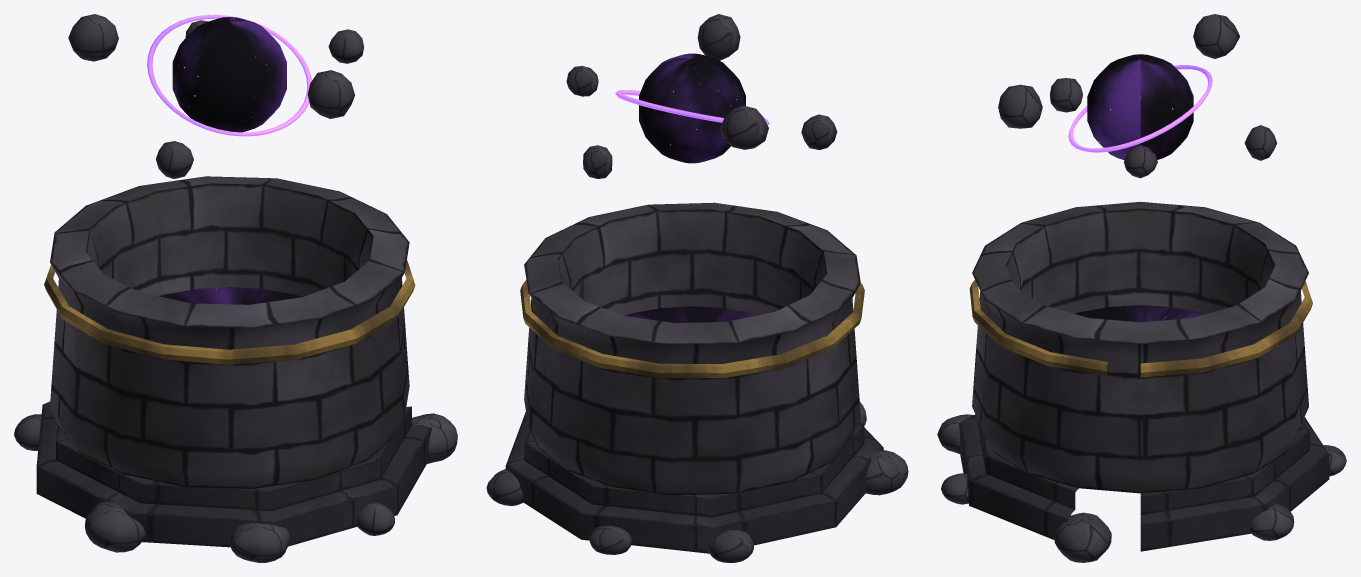
Rendered from gravity.glb.
3 views of the same model, side by side, from view 1: azimuth 30°, elevation 25°; view 2: azimuth 150°, elevation 25°; view 3: azimuth 270°, elevation 25° (orthographic). The views are drawn at different scales.
Visible parts, largest first — view 1: Base, Turret; view 2: Base, Turret; view 3: Base, Turret.
Part boxes in pixels (box(x1,y1,x2,y2)): Base: box(14, 176, 457, 562); Turret: box(68, 14, 363, 178); Base: box(486, 202, 908, 562); Turret: box(566, 14, 837, 178); Base: box(937, 201, 1346, 562); Turret: box(998, 14, 1276, 178).
Size of the model in its own units: 0.9606 by 1.11 by 0.9719.
6 materials, 6 textured.
